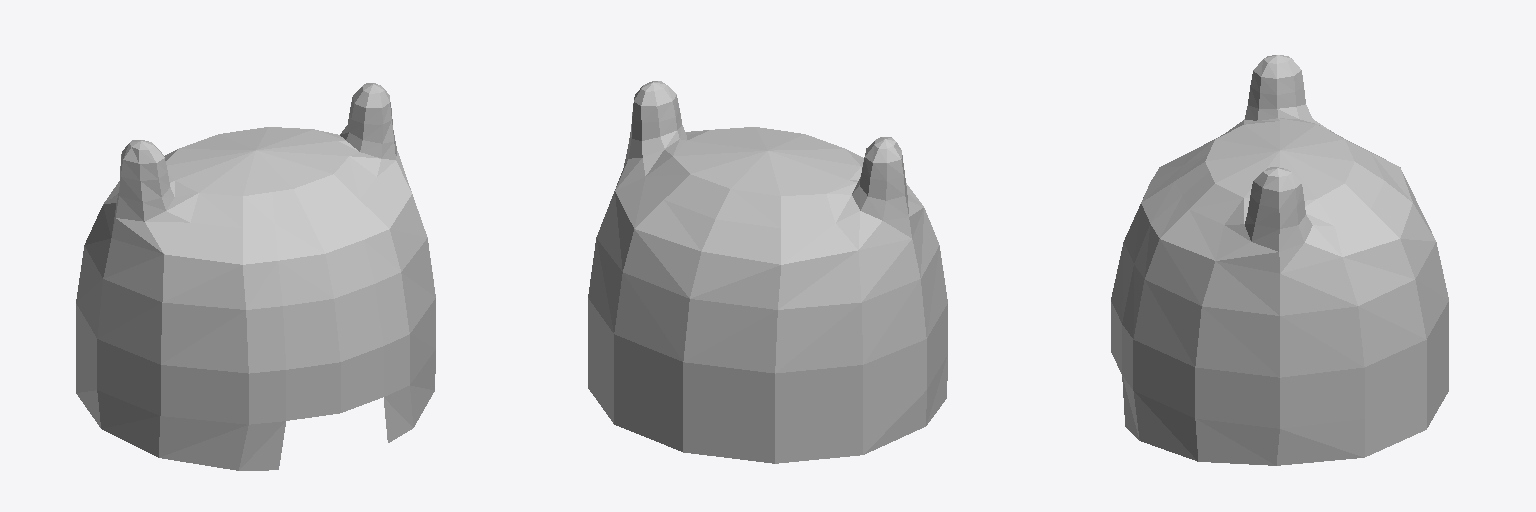
File: FinnC.obj
3 renders of one model, left to right at view 1: azimuth 30°, elevation 25°; view 2: azimuth 150°, elevation 25°; view 3: azimuth 270°, elevation 25°, orthographic.
Visible parts, largest first — view 1: Cabeza_finn_color; view 2: Cabeza_finn_color; view 3: Cabeza_finn_color.
Boxes of the visible parts, <box> form: Cabeza_finn_color: <box>76,83,435,470</box>; Cabeza_finn_color: <box>588,81,947,463</box>; Cabeza_finn_color: <box>1111,55,1448,465</box>.
Size of the model in its own units: 2.51 by 2.18 by 2.31.